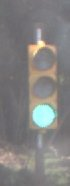Green: (20, 41, 60, 136)
